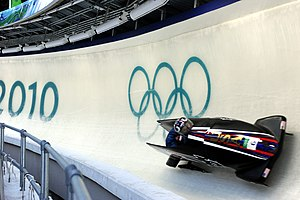Bobsleigh: (147, 114, 286, 183)
